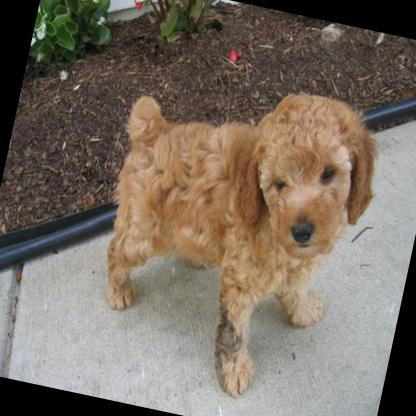toy_poodle: (71, 54, 391, 416)
